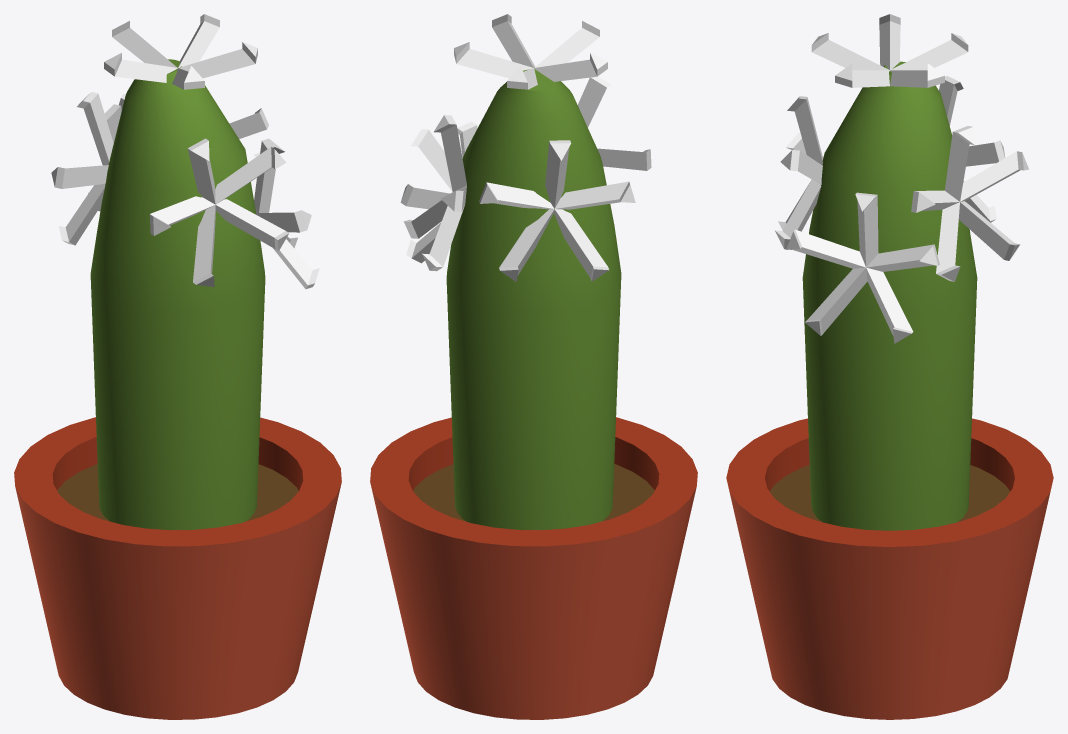
The model's file is furryCactus.glb.
3 renders of one model, left to right at view 1: azimuth 30°, elevation 25°; view 2: azimuth 150°, elevation 25°; view 3: azimuth 270°, elevation 25°, orthographic.
Parts seen in each view (by area): view 1: Cactus; view 2: Cactus; view 3: Cactus.
Boxes of the visible parts, x1=… form: Cactus: x1=14, y1=14, x2=341, y2=719; Cactus: x1=370, y1=14, x2=697, y2=719; Cactus: x1=726, y1=14, x2=1053, y2=719.
Size of the model in its own units: 0.9615 by 2.04 by 0.9615.
Materials: 1 (1 with a texture image).
